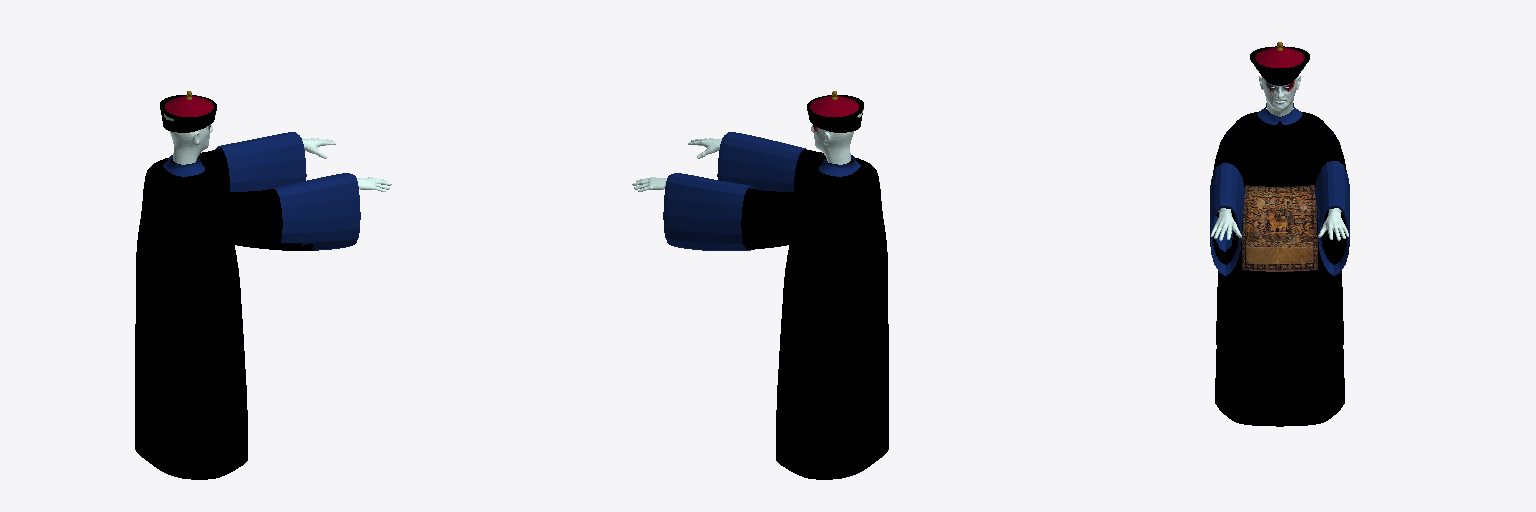
3 views of the same model, side by side, from view 1: azimuth 30°, elevation 25°; view 2: azimuth 150°, elevation 25°; view 3: azimuth 270°, elevation 25° (orthographic).
Visible parts, largest first — view 1: ho9ho3:polySurface3; view 2: ho9ho3:polySurface3; view 3: ho9ho3:polySurface3.
Boxes of the visible parts, x1,y1,x2,y2 form: ho9ho3:polySurface3: [135, 91, 391, 479]; ho9ho3:polySurface3: [632, 91, 888, 479]; ho9ho3:polySurface3: [1210, 42, 1349, 426].
Bounding box in the file's own units: 3.18 × 5.2 × 1.83.
Materials: 1 (1 with a texture image).